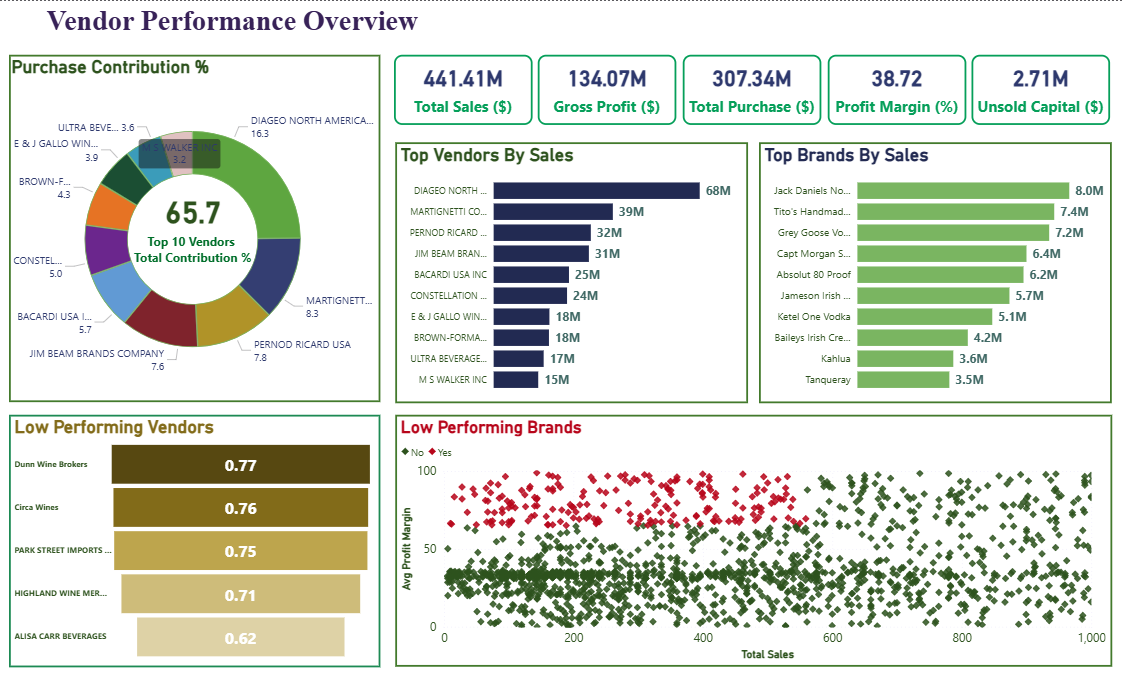

This screenshot's page, from the dashboard's own definition file:
{"tool":"powerbi","page":{"name":"Page 1","canvas":[1500,900],"ordinal":0},"visuals":[{"type":"card","fields":{"Values":["vendor_sales_summary.TotalSalesDollars"]},"box":[526,71.4,185,93.2],"z":0},{"type":"card","fields":{"Values":["vendor_sales_summary.GrossProfit"]},"box":[718.6,71.4,185,93.2],"z":1000},{"type":"card","fields":{"Values":["vendor_sales_summary.TotalPurchaseDollars"]},"box":[911.2,71.4,185,93.2],"z":2000},{"type":"card","fields":{"Values":["vendor_sales_summary.ProfitMargin"]},"box":[1105.3,71.4,185,93.2],"z":3000},{"type":"card","fields":{"Values":["vendor_sales_summary.UnsoldCapital"]},"box":[1296.3,71.4,185,93.2],"z":4000},{"type":"donutChart","title":"Purchase Contribution % ","fields":{"Y":["PurchaseContribution.PurchaseContribution%"],"Category":["PurchaseContribution.VendorName"]},"box":[13.8,71.8,495.2,463.1],"z":5000},{"type":"barChart","title":"Top Vendors By Sales","fields":{"Category":["vendor_sales_summary.VendorName"],"Y":["vendor_sales_summary.TotalSalesDollars"]},"box":[528,188,470,348],"z":6000},{"type":"barChart","title":"Top Brands By Sales","fields":{"Category":["vendor_sales_summary.Description"],"Y":["vendor_sales_summary.TotalSalesDollars"]},"box":[1014,188,470,348],"z":7000},{"type":"funnel","title":"Low Performing Vendors","fields":{"Category":["LawTurnoverVendor.VendorName"],"Y":["LawTurnoverVendor.AvgStockTurnover"]},"box":[13.3,551.7,495,336.7],"z":8000},{"type":"scatterChart","title":"Low Performing Brands","fields":{"X":["BrandPerformance.TotalSales"],"Y":["BrandPerformance.AvgProfitMargin"],"Series":["BrandPerformance.TargetBrand"],"Category":["BrandPerformance.Description"]},"box":[528,552,956,336],"z":9000},{"type":"card","fields":{"Values":["PurchaseContribution.PurchaseContribution%"]},"box":[174.3,165.1,166.6,244.6],"z":10000},{"type":"textbox","box":[58.3,0,581.7,65],"z":11000}]}

Visuals, with their boxes in screenshot pixels (x1, y1, x2, y2), scaled from the page's 1500x900 canvas onto the 1122x675 screenshot:
card - vendor_sales_summary.TotalSalesDollars: detection(393, 54, 532, 123)
card - vendor_sales_summary.GrossProfit: detection(538, 54, 676, 123)
card - vendor_sales_summary.TotalPurchaseDollars: detection(682, 54, 820, 123)
card - vendor_sales_summary.ProfitMargin: detection(827, 54, 965, 123)
card - vendor_sales_summary.UnsoldCapital: detection(970, 54, 1108, 123)
"Purchase Contribution % " donutChart: detection(10, 54, 381, 401)
"Top Vendors By Sales" barChart: detection(395, 141, 747, 402)
"Top Brands By Sales" barChart: detection(758, 141, 1110, 402)
"Low Performing Vendors" funnel: detection(10, 414, 380, 666)
"Low Performing Brands" scatterChart: detection(395, 414, 1110, 666)
card - PurchaseContribution.PurchaseContribution%: detection(130, 124, 255, 307)
textbox: detection(44, 0, 479, 49)
